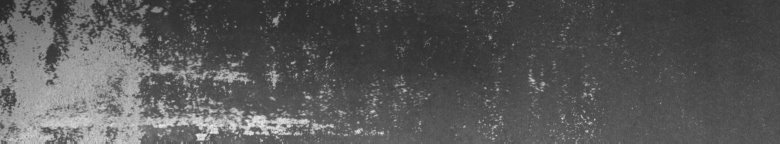kb: (4, 4, 628, 136)
